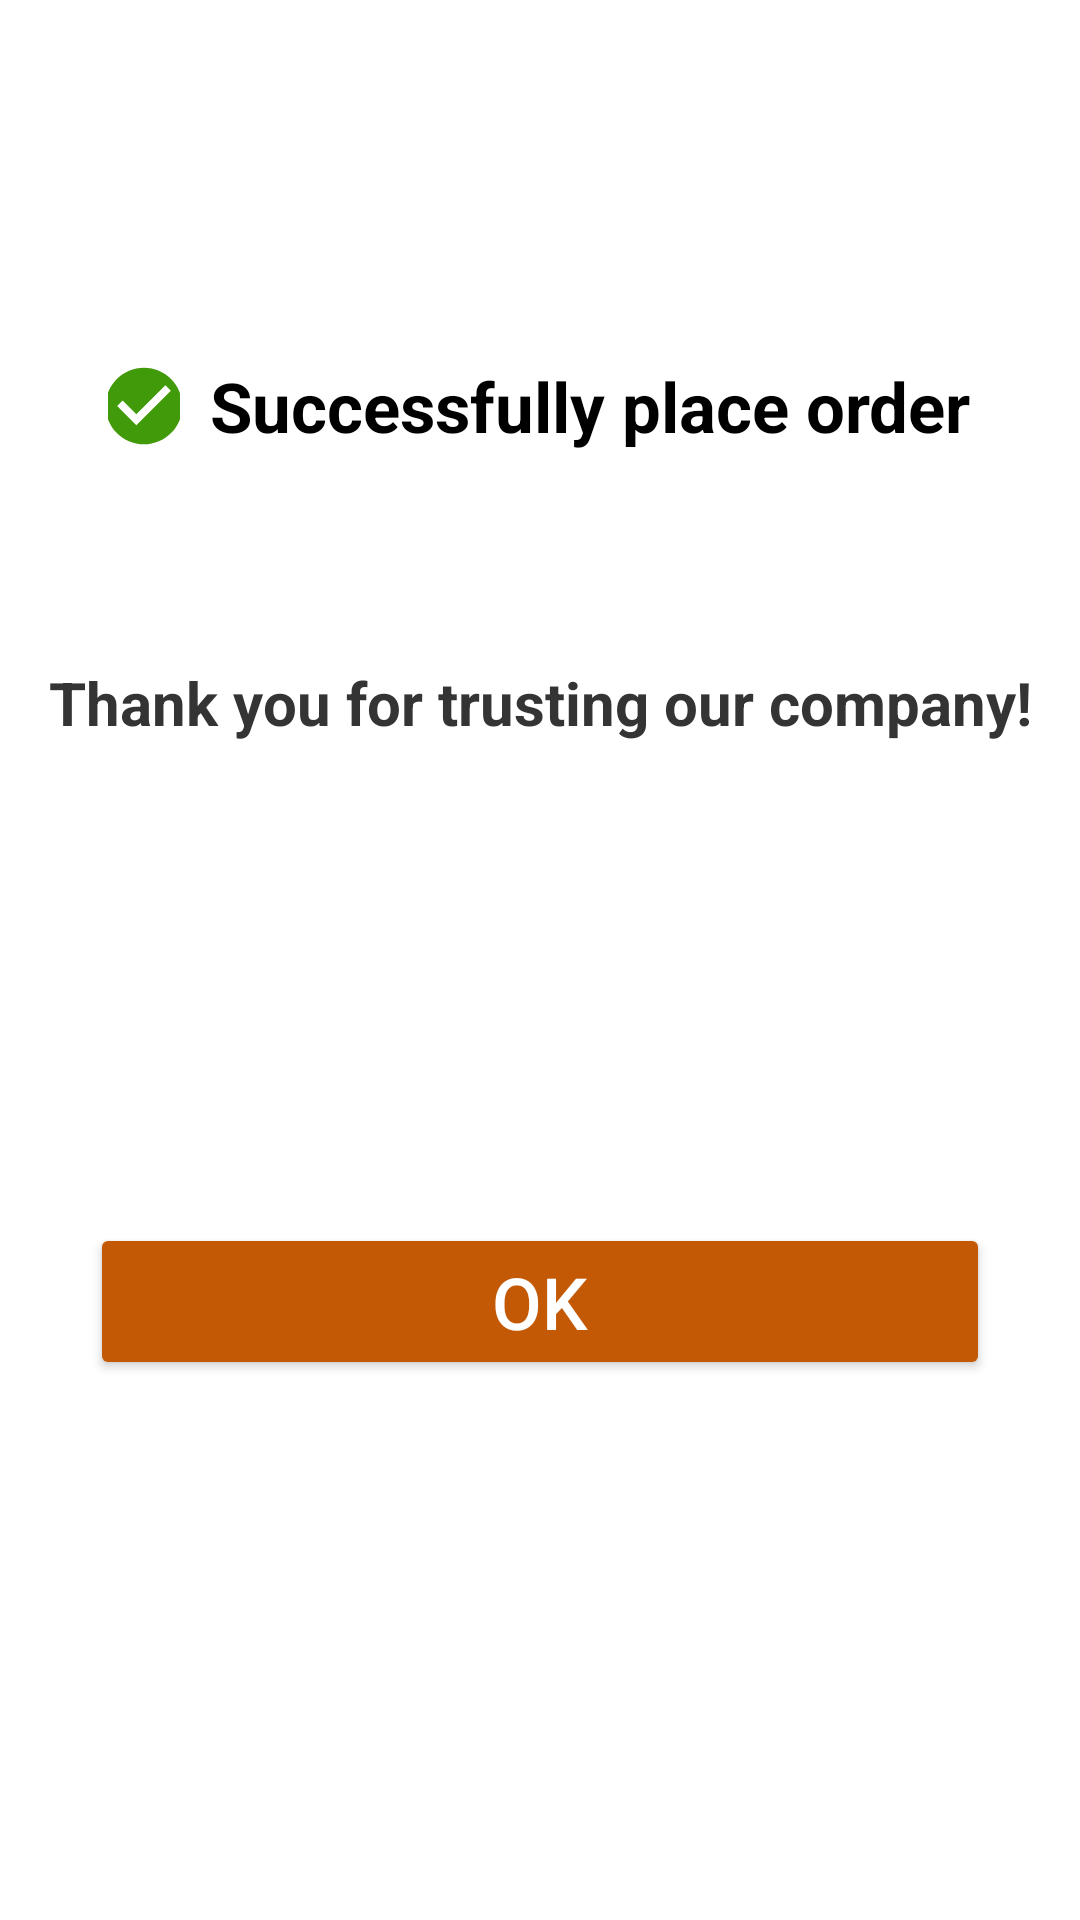

Icons on this 1080×1920 Android screen, each with the point to tap as (x=x, y=y):
check success: (x=144, y=406)
